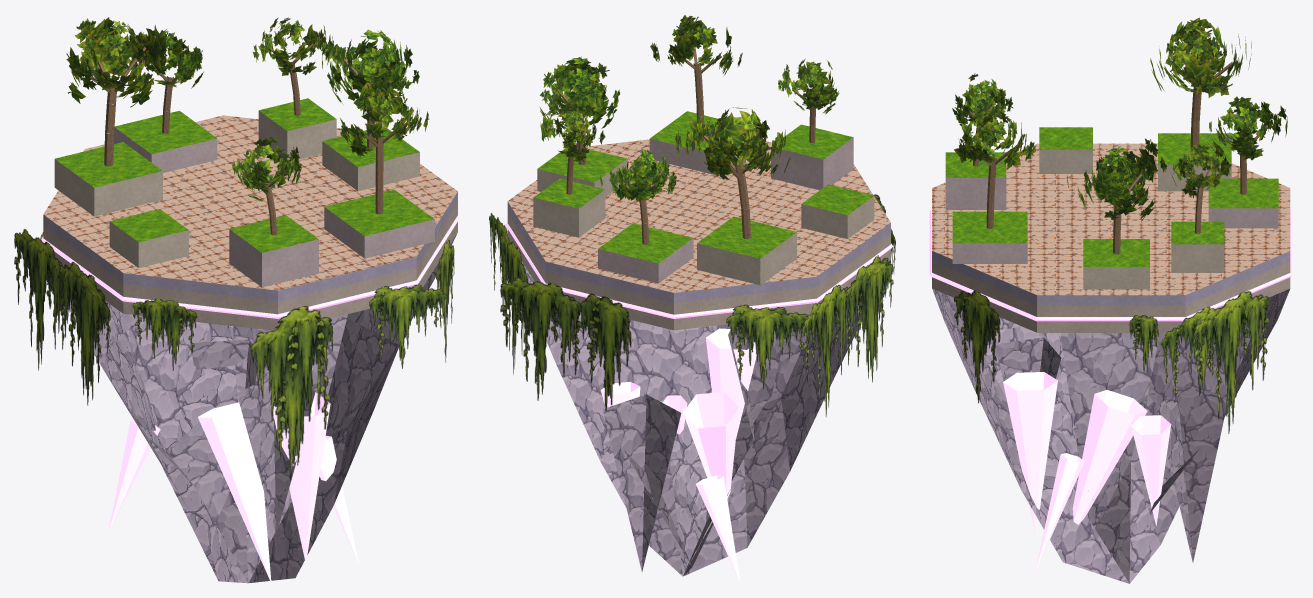
File: SKY_ISLAND_02.glb
3 views of the same model, side by side, from view 1: azimuth 30°, elevation 25°; view 2: azimuth 150°, elevation 25°; view 3: azimuth 270°, elevation 25° (orthographic). The views are drawn at different scales.
Visible parts, largest first — view 1: S_Small03_Skin.001, S_Small03_Trees.001, S_Small03_Moss.001, S_Small03_Crystals.001; view 2: S_Small03_Skin.001, S_Small03_Moss.001, S_Small03_Trees.001, S_Small03_Crystals.001; view 3: S_Small03_Skin.001, S_Small03_Trees.001, S_Small03_Crystals.001, S_Small03_Moss.001.
Boxes of the visible parts, bbox=[...] form: S_Small03_Skin.001: bbox=[41, 98, 460, 583]; S_Small03_Trees.001: bbox=[66, 17, 429, 235]; S_Small03_Moss.001: bbox=[14, 229, 454, 480]; S_Small03_Crystals.001: bbox=[108, 365, 358, 583]; S_Small03_Skin.001: bbox=[505, 111, 892, 576]; S_Small03_Moss.001: bbox=[489, 194, 895, 416]; S_Small03_Trees.001: bbox=[539, 15, 839, 244]; S_Small03_Crystals.001: bbox=[600, 328, 756, 582]; S_Small03_Skin.001: bbox=[929, 127, 1292, 583]; S_Small03_Trees.001: bbox=[952, 17, 1287, 254]; S_Small03_Crystals.001: bbox=[1003, 372, 1171, 572]; S_Small03_Moss.001: bbox=[954, 290, 1269, 433].
Size of the model in its own units: 14.52 by 20.81 by 13.52.
9 materials, 7 textured.
